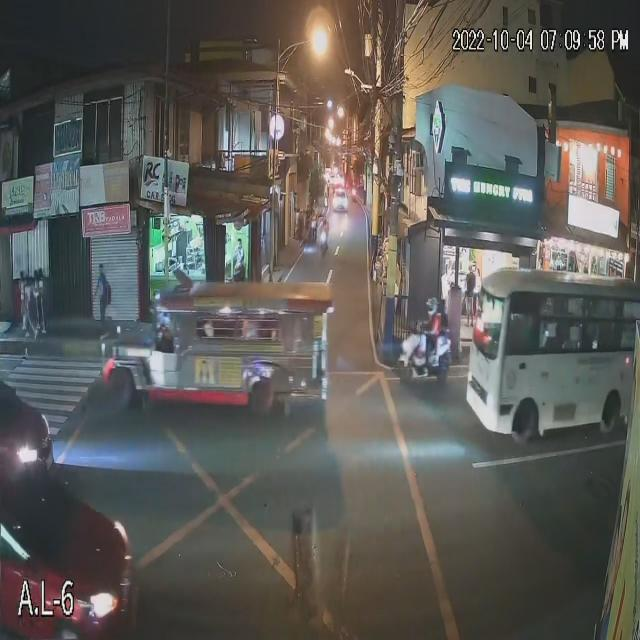helmet: (426, 298, 438, 311)
motorcycle: (396, 327, 454, 390)
rider: (415, 314, 443, 371)
